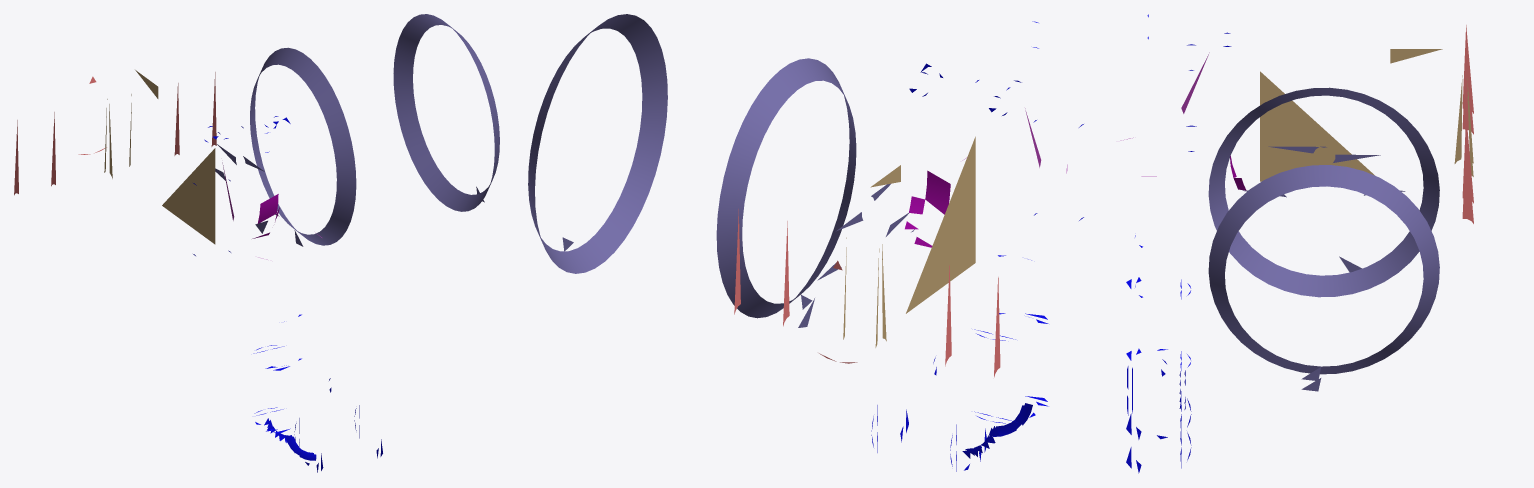
The picture shows the model from 3 angles, left to right: view 1: azimuth 30°, elevation 25°; view 2: azimuth 150°, elevation 25°; view 3: azimuth 270°, elevation 25°; orthographic projection. The views are drawn at different scales.
Parts seen in each view (by area): view 1: F19721000063199800000_001_59230003_Fraeskopf (×4); view 2: F19721000063199800000_001_59230003_Fraeskopf (×5); view 3: F19721000063199800000_001_59230003_Fraeskopf (×4).
Boxes of the visible parts, x1,y1,x2,y2 form: F19721000063199800000_001_59230003_Fraeskopf (×4): (14,14,499,472); F19721000063199800000_001_59230003_Fraeskopf (×5): (528,14,1083,471); F19721000063199800000_001_59230003_Fraeskopf (×4): (1126,14,1473,473).
Size of the model in its own units: 320 by 250 by 270.
